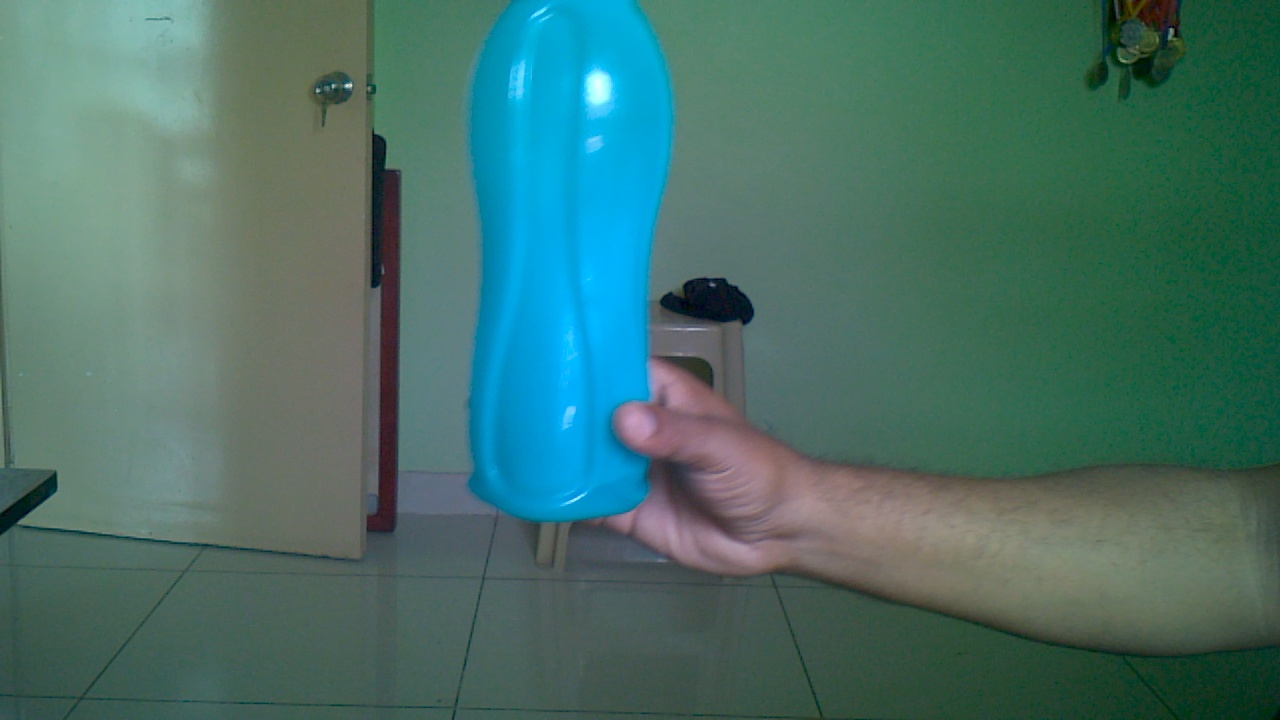waterbottle: (451, 1, 679, 562)
